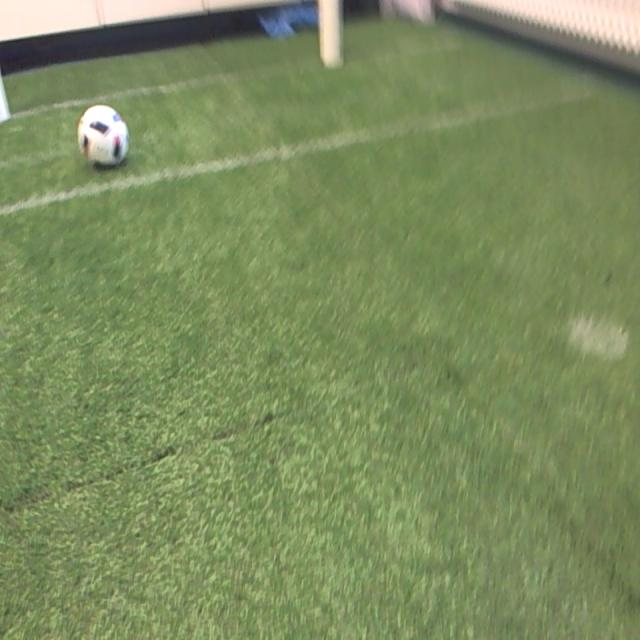ball: (78, 105, 129, 171)
goalpost: (320, 0, 340, 64), (2, 78, 14, 120)
